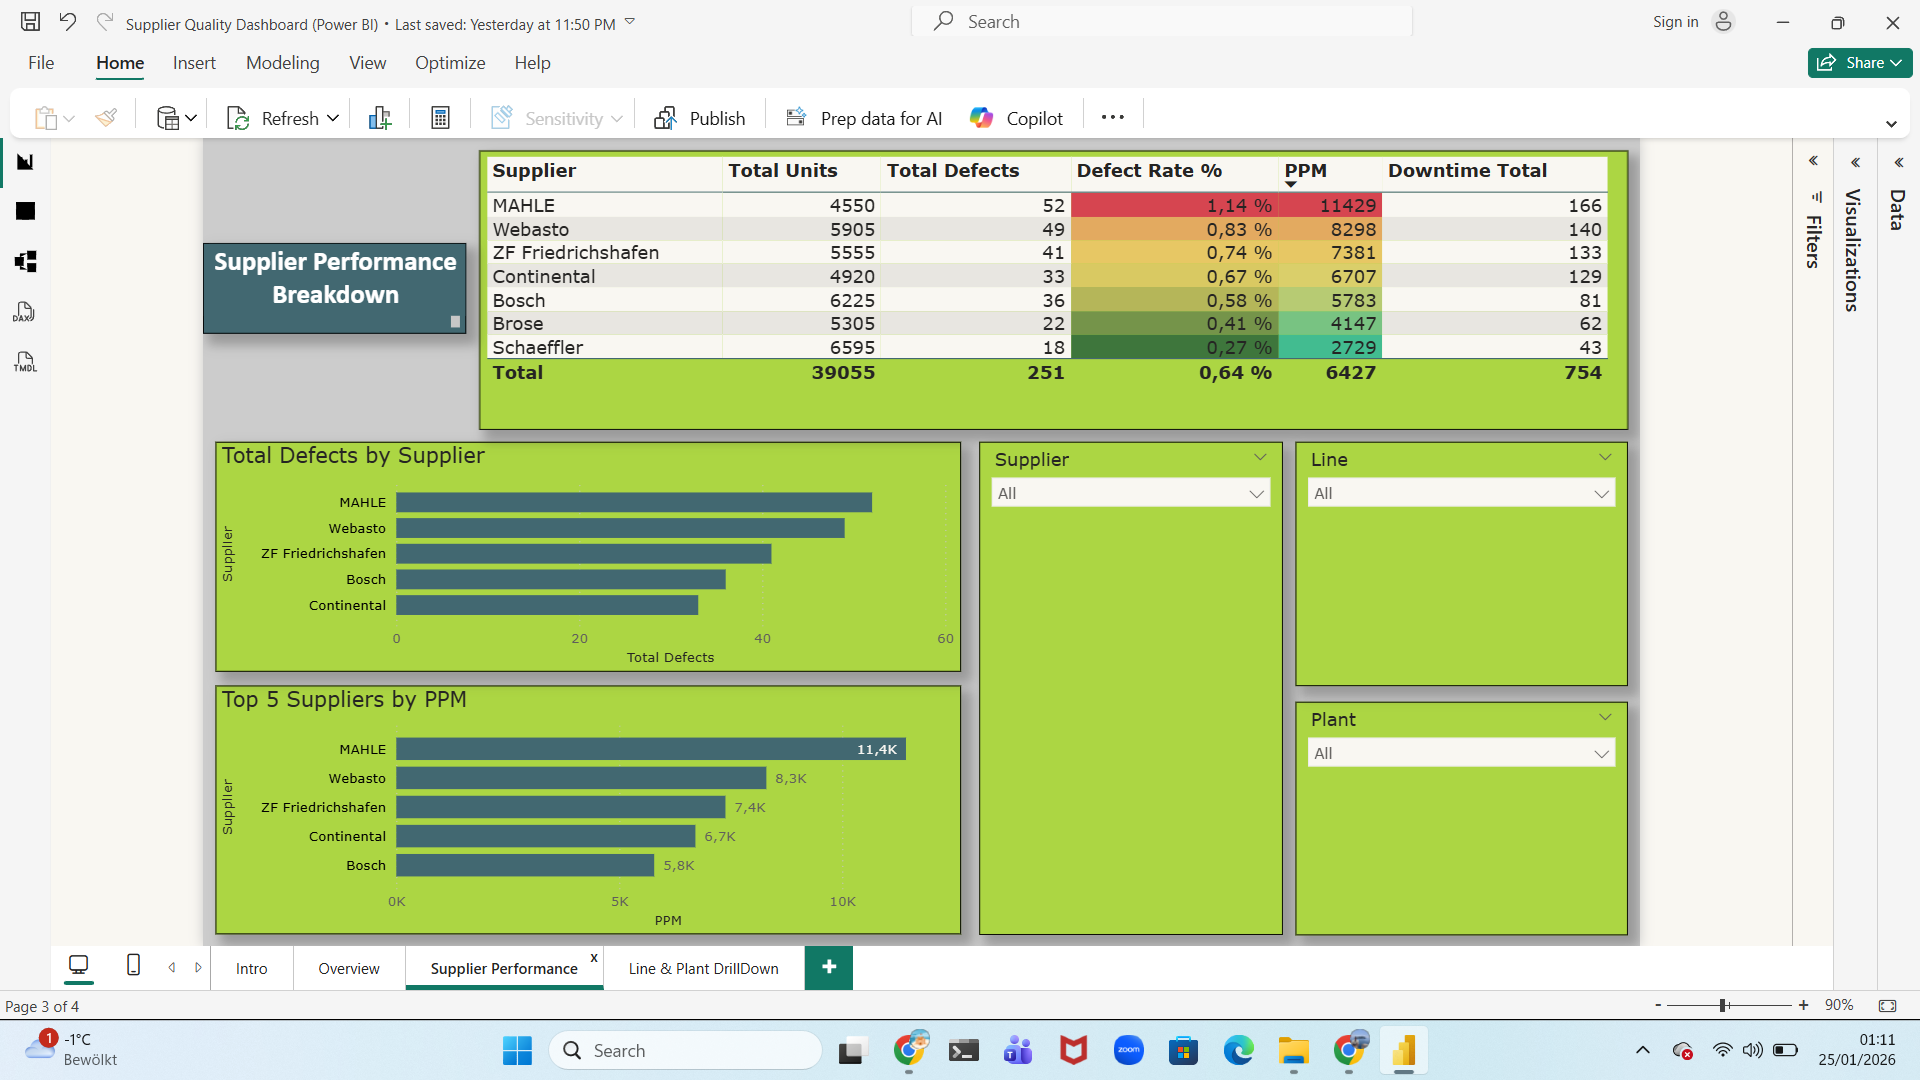

The page's visual inventory and layout, read from the dashboard file:
{"tool":"powerbi","page":{"name":"Supplier Performance","canvas":[1280,720],"ordinal":2},"visuals":[{"type":"clusteredBarChart","title":"Top 5 Suppliers by PPM","fields":{"Category":["tblProduction.Supplier"],"Y":["tblProduction.PPM"]},"box":[11.4,487.9,664.3,221.9],"z":0},{"type":"clusteredBarChart","fields":{"Category":["tblProduction.Supplier"],"Y":["tblProduction.Total Defects"]},"box":[11.4,270.3,664.3,204.8],"z":1000},{"type":"tableEx","fields":{"Values":["tblSupplier.Supplier","tblProduction.Total Units","tblProduction.Total Defects","tblProduction.Defect Rate %","tblProduction.PPM","tblProduction.Downtime Total"]},"box":[246.1,11.4,1022.8,248.9],"z":2000},{"type":"slicer","fields":{"Values":["tblProduction.Supplier"]},"box":[691.4,270.3,270.3,439.6],"z":3000},{"type":"slicer","fields":{"Values":["tblProduction.Plant"]},"box":[973,502.2,295.9,207.7],"z":4000},{"type":"slicer","fields":{"Values":["tblProduction.Line"]},"box":[973,270.3,295.9,217.6],"z":5000},{"type":"textbox","title":"Supplier Performance Breakdown","box":[0,93.9,234.7,81.1],"z":6000}]}

Visuals, with their boxes on the page's 1280x720 design canvas (x1, y1, x2, y2). These are canvas units, not pixel positions in the 1920x1080 screenshot, which may show the page scaled, cropped or inside an application window:
"Top 5 Suppliers by PPM" clusteredBarChart: bbox(11, 488, 676, 710)
clusteredBarChart - tblProduction.Supplier x tblProduction.Total Defects: bbox(11, 270, 676, 475)
tableEx - tblSupplier.Supplier x tblProduction.Total Units: bbox(246, 11, 1269, 260)
slicer - tblProduction.Supplier: bbox(691, 270, 962, 710)
slicer - tblProduction.Plant: bbox(973, 502, 1269, 710)
slicer - tblProduction.Line: bbox(973, 270, 1269, 488)
"Supplier Performance Breakdown" textbox: bbox(0, 94, 235, 175)
